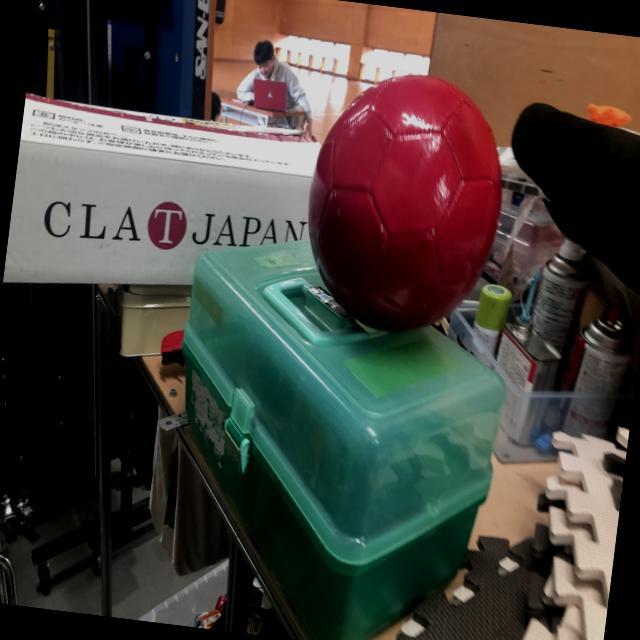red_ball: (292, 61, 518, 348)
